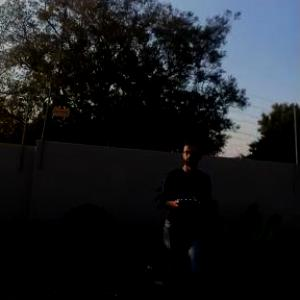follow: (152, 136, 217, 299)
